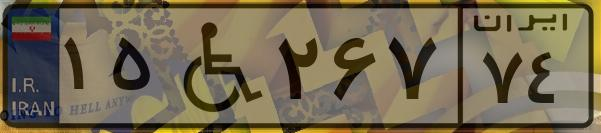1: (57, 26, 110, 100)
2: (270, 28, 330, 110)
4: (525, 38, 570, 115)
5: (110, 28, 158, 98)
6: (330, 28, 385, 110)
7: (385, 28, 445, 110), (475, 38, 525, 113)
ژ (معلولین و جانبازان): (158, 12, 270, 120)
